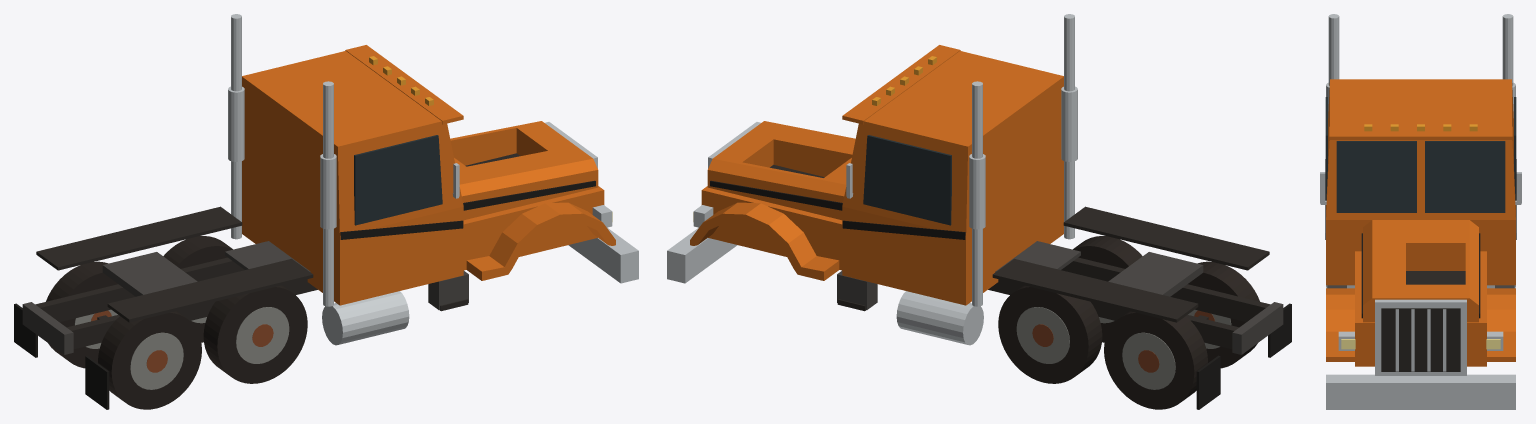
File: base_semi.glb
The picture shows the model from 3 angles, left to right: view 1: azimuth 30°, elevation 25°; view 2: azimuth 150°, elevation 25°; view 3: azimuth 270°, elevation 25°; orthographic projection. The views are drawn at different scales.
Parts seen in each view (by area): view 1: base_semi; view 2: base_semi; view 3: base_semi.
Part boxes in pixels (<box>): base_semi: <box>14,14,638,409</box>; base_semi: <box>667,14,1291,409</box>; base_semi: <box>1320,14,1521,409</box>.
Bounding box in the file's own units: 9.02 × 4.65 × 3.06.
